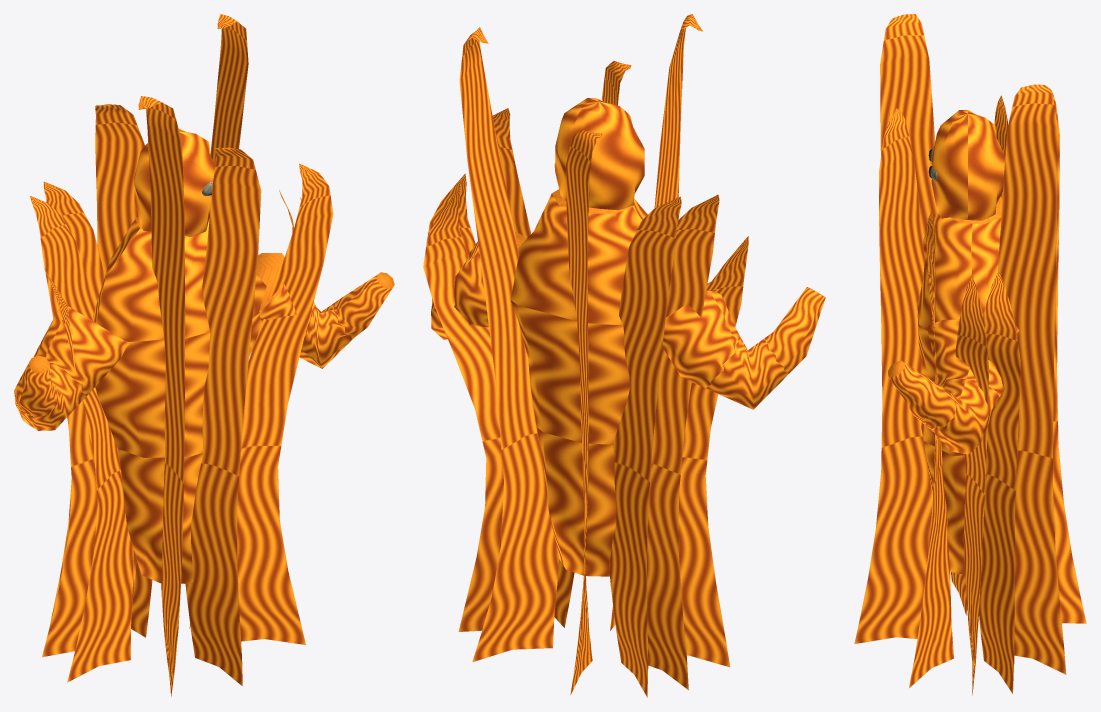
The model's file is special-fire-elemental-mobile.glb.
The picture shows the model from 3 angles, left to right: view 1: azimuth 30°, elevation 25°; view 2: azimuth 150°, elevation 25°; view 3: azimuth 270°, elevation 25°; orthographic projection. The views are drawn at different scales.
Visible parts, largest first — view 1: fire; view 2: fire; view 3: fire.
Part boxes in pixels (x1,y1,x2,y2): fire: [14, 14, 394, 696]; fire: [423, 14, 825, 697]; fire: [854, 14, 1086, 695].
Size of the model in its own units: 1.01 by 1.56 by 0.5493.
Materials: 3 (3 with a texture image).
